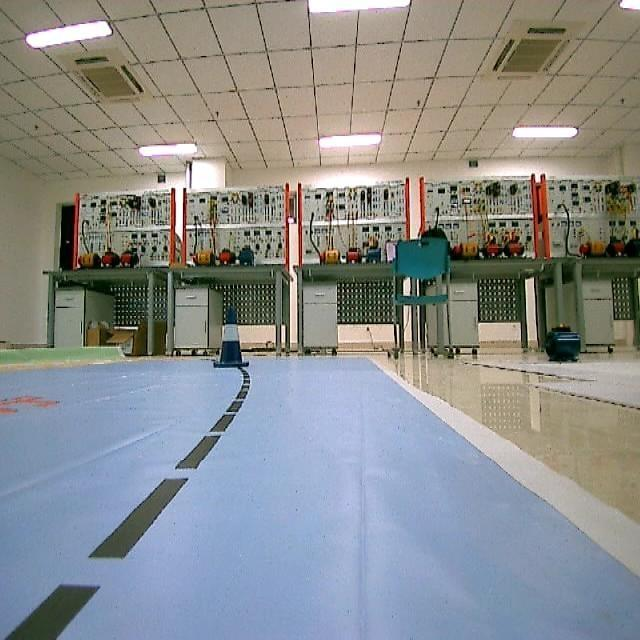obstacle: (208, 309, 258, 373)
